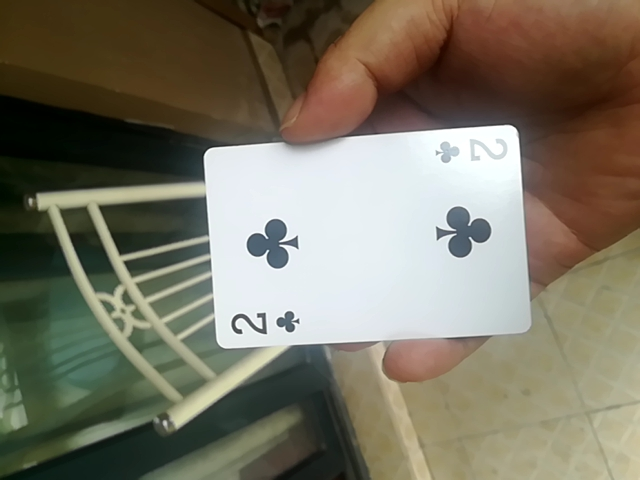mh 2: (199, 124, 529, 353)
